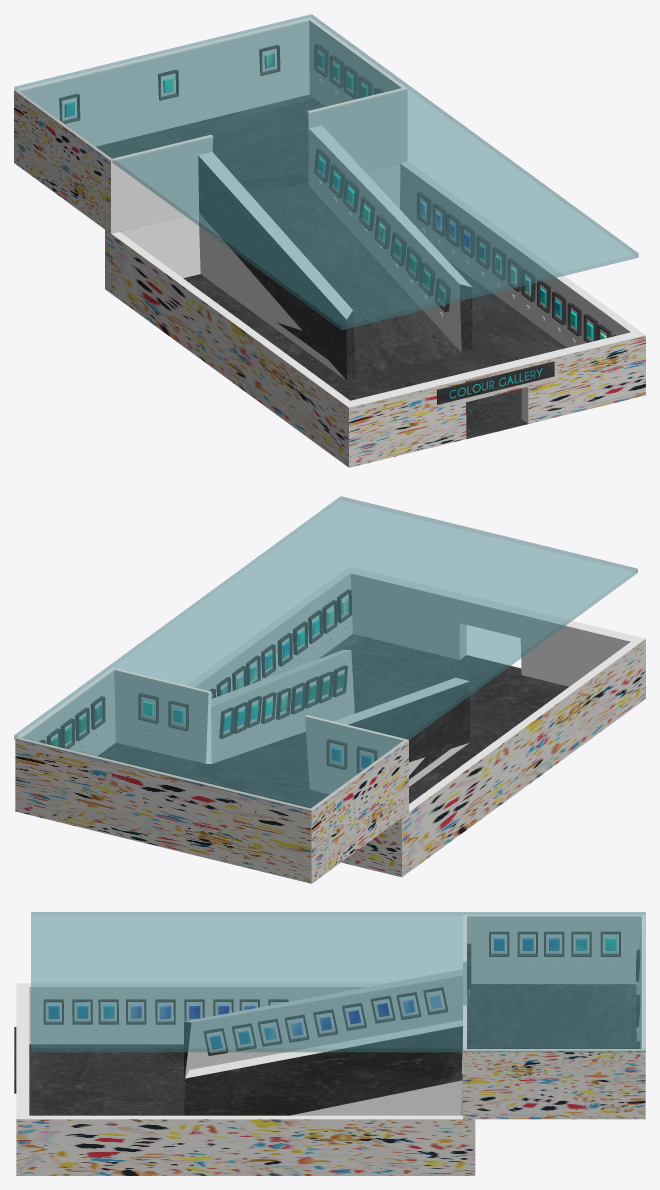
File: gallery_v5.gltf
3 renders of one model, top to bottom at view 1: azimuth 30°, elevation 25°; view 2: azimuth 150°, elevation 25°; view 3: azimuth 270°, elevation 25°, orthographic. The views are drawn at different scales.
Parts seen in each view (by area): view 1: glass-ceiling, lower-level, ramp1-2, rammp, card.061, friso; view 2: glass-ceiling, lower-level, ramp1-2, rammp, card.061, picture.004, picture.001, picture.000; view 3: glass-ceiling, lower-level, ramp1-2, card.046, rammp, picture.030, picture.031, picture.026, picture.024, picture.028, picture.025, picture.027 (+7 smaller).
Part boxes in pixels (x1,y1,x2,y2): glass-ceiling: (14,14,638,329); lower-level: (105,161,645,467); ramp1-2: (198,125,472,380); rammp: (199,182,472,380); card.061: (417,192,616,342); friso: (437,361,554,404); glass-ceiling: (14,496,637,883); lower-level: (187,566,645,877); ramp1-2: (211,650,470,779); rammp: (195,732,469,791); card.061: (209,589,351,698); picture.004: (326,739,347,769); picture.001: (138,693,158,723); picture.000: (168,700,188,731); glass-ceiling: (31,912,645,1119); lower-level: (16,983,475,1175); ramp1-2: (184,969,462,1115); card.046: (43,999,288,1033); rammp: (183,1023,467,1115); picture.030: (203,1028,228,1055); picture.031: (232,1023,256,1051); picture.026: (396,992,421,1019); picture.024: (342,1002,366,1030); picture.028: (313,1009,337,1037); picture.025: (423,987,448,1014); picture.027: (257,1019,282,1046).
Size of what is drawn, in the model's own units: 22.49 by 9.87 by 43.94.
5 materials, 4 textured.
